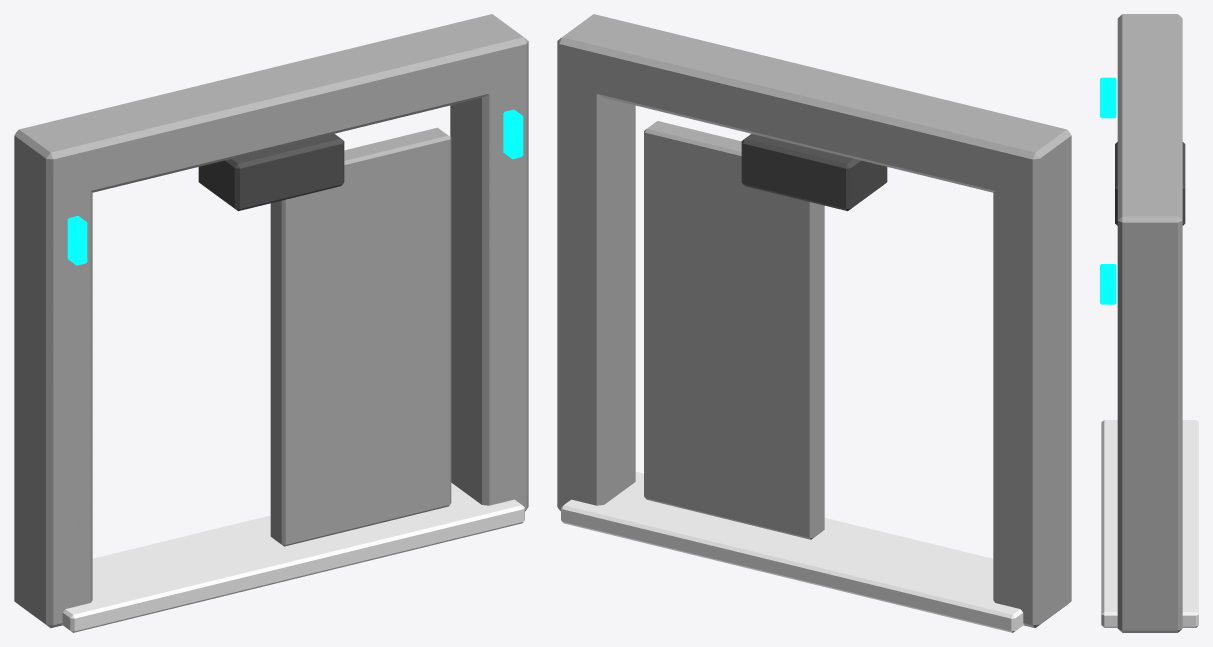
Rendered from pressure_door_1x1_breached.glb.
3 views of the same model, side by side, from view 1: azimuth 30°, elevation 25°; view 2: azimuth 150°, elevation 25°; view 3: azimuth 270°, elevation 25° (orthographic). The views are drawn at different scales.
Parts seen in each view (by area): view 1: FocusedNine_pressure_door_1x1_breached_split_leaf_right, FocusedNine_pressure_door_1x1_breached_outer_portal_left, FocusedNine_pressure_door_1x1_breached_outer_portal_lintel, FocusedNine_pressure_door_1x1_breached_outer_portal_right, FocusedNine_pressure_door_1x1_breached_warning_threshold, FocusedNine_pressure_door_1x1_breached_motor_housing, FocusedNine_pressure_door_1x1_breached_cyan_indicator_right, FocusedNine_pressure_door_1x1_breached_cyan_indicator_left; view 2: FocusedNine_pressure_door_1x1_breached_split_leaf_right, FocusedNine_pressure_door_1x1_breached_outer_portal_left, FocusedNine_pressure_door_1x1_breached_outer_portal_right, FocusedNine_pressure_door_1x1_breached_outer_portal_lintel, FocusedNine_pressure_door_1x1_breached_warning_threshold, FocusedNine_pressure_door_1x1_breached_motor_housing; view 3: FocusedNine_pressure_door_1x1_breached_outer_portal_right, FocusedNine_pressure_door_1x1_breached_outer_portal_lintel, FocusedNine_pressure_door_1x1_breached_warning_threshold, FocusedNine_pressure_door_1x1_breached_outer_portal_left, FocusedNine_pressure_door_1x1_breached_cyan_indicator_left, FocusedNine_pressure_door_1x1_breached_cyan_indicator_right, FocusedNine_pressure_door_1x1_breached_motor_housing.
Boxes of the visible parts, x1,y1,x2,y2 form: FocusedNine_pressure_door_1x1_breached_split_leaf_right: [270, 127, 451, 546]; FocusedNine_pressure_door_1x1_breached_outer_portal_left: [14, 120, 92, 627]; FocusedNine_pressure_door_1x1_breached_outer_portal_lintel: [27, 23, 528, 199]; FocusedNine_pressure_door_1x1_breached_outer_portal_right: [450, 14, 528, 511]; FocusedNine_pressure_door_1x1_breached_warning_threshold: [61, 483, 524, 632]; FocusedNine_pressure_door_1x1_breached_motor_housing: [198, 134, 344, 211]; FocusedNine_pressure_door_1x1_breached_cyan_indicator_right: [503, 109, 523, 159]; FocusedNine_pressure_door_1x1_breached_cyan_indicator_left: [67, 216, 87, 265]; FocusedNine_pressure_door_1x1_breached_split_leaf_right: [644, 121, 824, 539]; FocusedNine_pressure_door_1x1_breached_outer_portal_left: [993, 120, 1071, 627]; FocusedNine_pressure_door_1x1_breached_outer_portal_right: [557, 14, 635, 511]; FocusedNine_pressure_door_1x1_breached_outer_portal_lintel: [559, 23, 1071, 195]; FocusedNine_pressure_door_1x1_breached_warning_threshold: [561, 471, 1024, 632]; FocusedNine_pressure_door_1x1_breached_motor_housing: [741, 134, 887, 211]; FocusedNine_pressure_door_1x1_breached_outer_portal_right: [1117, 200, 1182, 632]; FocusedNine_pressure_door_1x1_breached_outer_portal_lintel: [1117, 30, 1182, 257]; FocusedNine_pressure_door_1x1_breached_warning_threshold: [1101, 420, 1198, 627]; FocusedNine_pressure_door_1x1_breached_outer_portal_left: [1117, 14, 1182, 33]; FocusedNine_pressure_door_1x1_breached_cyan_indicator_left: [1100, 77, 1116, 118]; FocusedNine_pressure_door_1x1_breached_cyan_indicator_right: [1100, 264, 1116, 304]; FocusedNine_pressure_door_1x1_breached_motor_housing: [1115, 142, 1185, 225].
Bounding box in the file's own units: 3.61 × 3.4 × 0.73.
